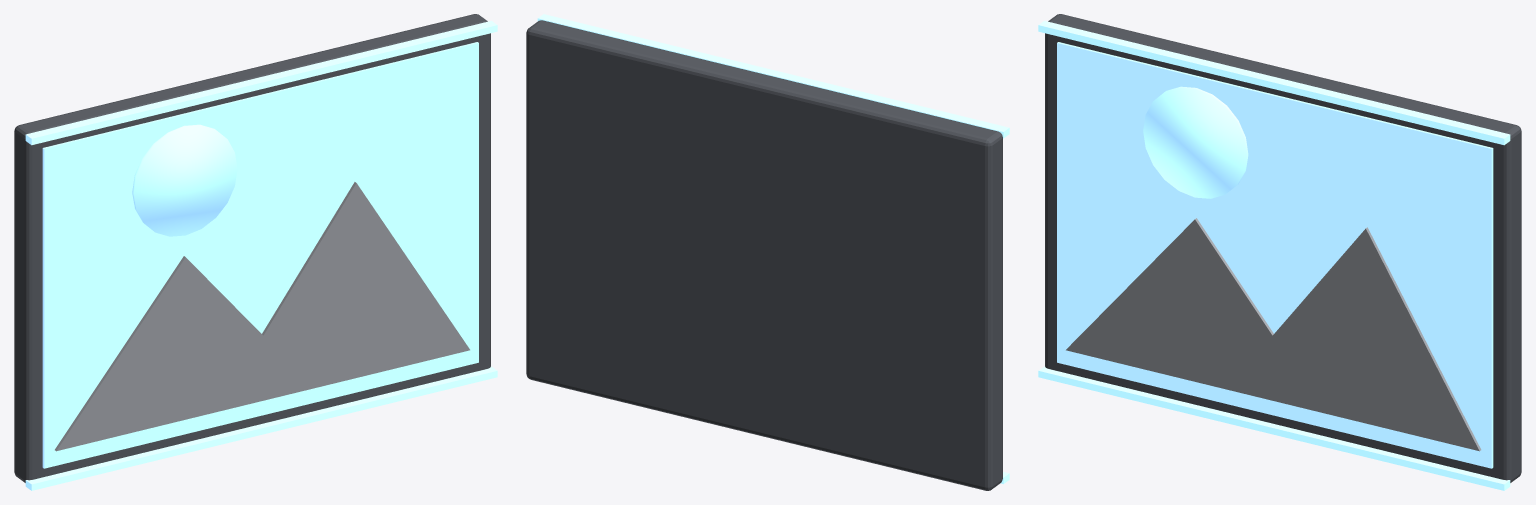
Rendered from holo_poster_mountains.glb.
3 views of the same model, side by side, from view 1: azimuth 30°, elevation 25°; view 2: azimuth 150°, elevation 25°; view 3: azimuth 330°, elevation 25° (orthographic).
Parts seen in each view (by area): view 1: GD_holo_poster_mountains__m1, GD_holo_poster_mountains__m3, GD_holo_poster_mountains__m0, GD_holo_poster_mountains__m2; view 2: GD_holo_poster_mountains__m0, GD_holo_poster_mountains__m2; view 3: GD_holo_poster_mountains__m1, GD_holo_poster_mountains__m3, GD_holo_poster_mountains__m0, GD_holo_poster_mountains__m2.
Part boxes in pixels (x1,y1,x2,y2): GD_holo_poster_mountains__m1: (42, 42, 478, 468); GD_holo_poster_mountains__m3: (55, 182, 469, 451); GD_holo_poster_mountains__m0: (14, 14, 490, 482); GD_holo_poster_mountains__m2: (25, 21, 497, 490); GD_holo_poster_mountains__m0: (526, 20, 1002, 490); GD_holo_poster_mountains__m2: (537, 14, 1009, 483); GD_holo_poster_mountains__m1: (1057, 42, 1493, 468); GD_holo_poster_mountains__m3: (1066, 218, 1481, 451); GD_holo_poster_mountains__m0: (1045, 14, 1521, 482); GD_holo_poster_mountains__m2: (1038, 21, 1510, 490).
Bounding box in the file's own units: 0.9 × 0.65 × 0.065.
